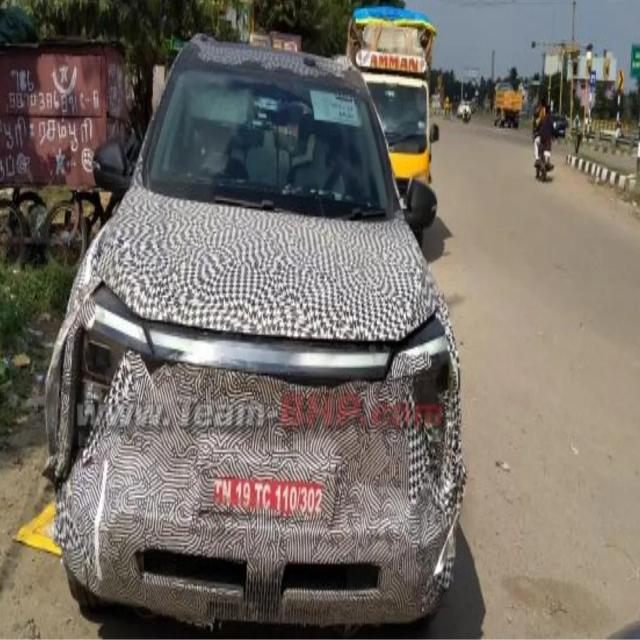plate: (209, 470, 323, 524)
